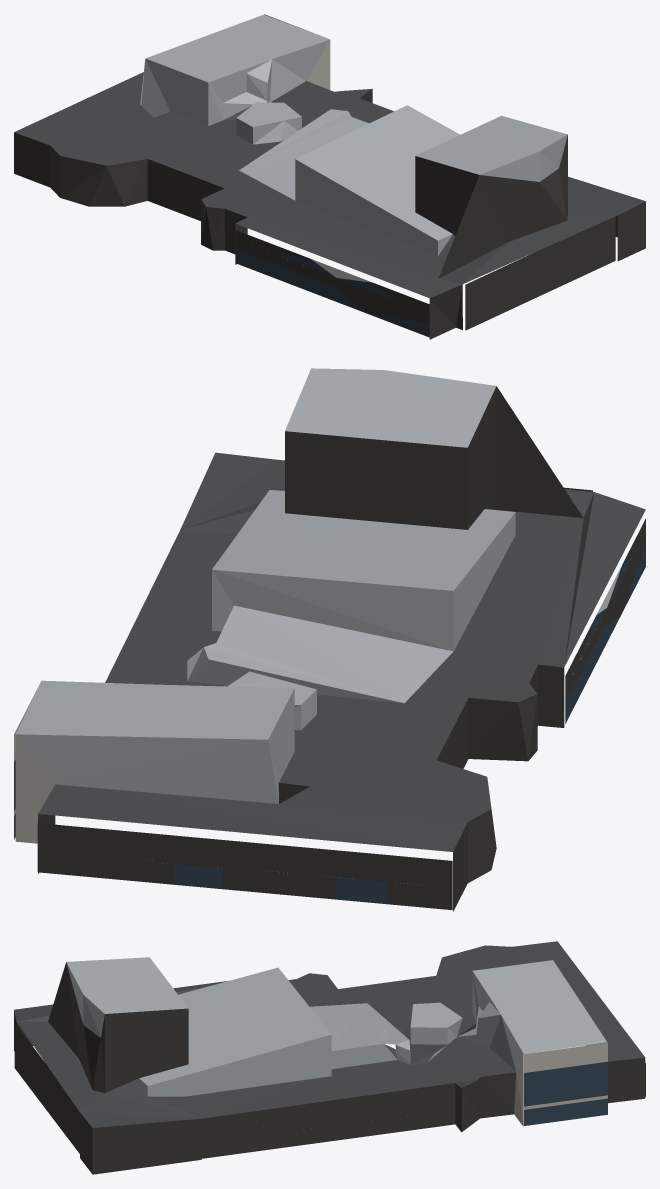
File: meervaart.lod2.glb
3 views of the same model, one above another, from view 1: azimuth 30°, elevation 25°; view 2: azimuth 150°, elevation 25°; view 3: azimuth 270°, elevation 25° (orthographic). The views are drawn at different scales.
Visible parts, largest first — view 1: lod2; view 2: lod2; view 3: lod2.
Part boxes in pixels (x1=…): lod2: x1=14, y1=14, x2=645, y2=339; lod2: x1=14, y1=368, x2=645, y2=911; lod2: x1=14, y1=941, x2=645, y2=1174.
Size of the model in its own units: 76.18 by 23.35 by 106.
